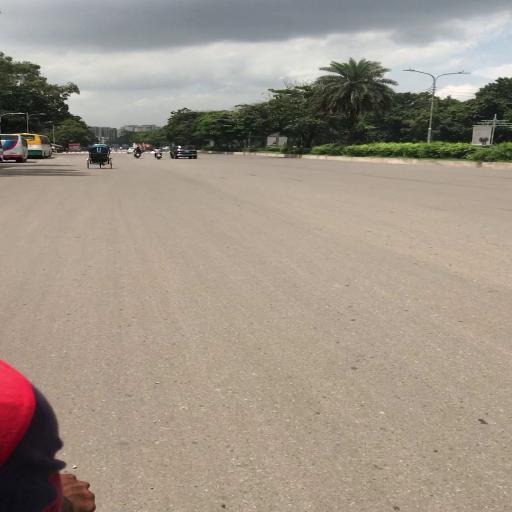bus: (3, 135, 29, 165), (26, 135, 55, 161), (131, 143, 146, 149)
car: (127, 148, 135, 155)
motorbike: (153, 148, 165, 160), (133, 147, 143, 159)
rickshaw: (86, 145, 114, 171)
suv: (170, 146, 199, 161)
